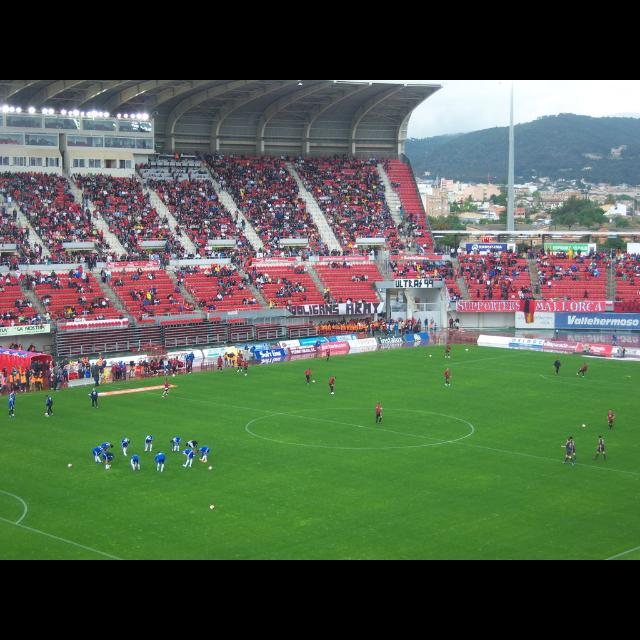Football: (207, 504, 213, 508)
